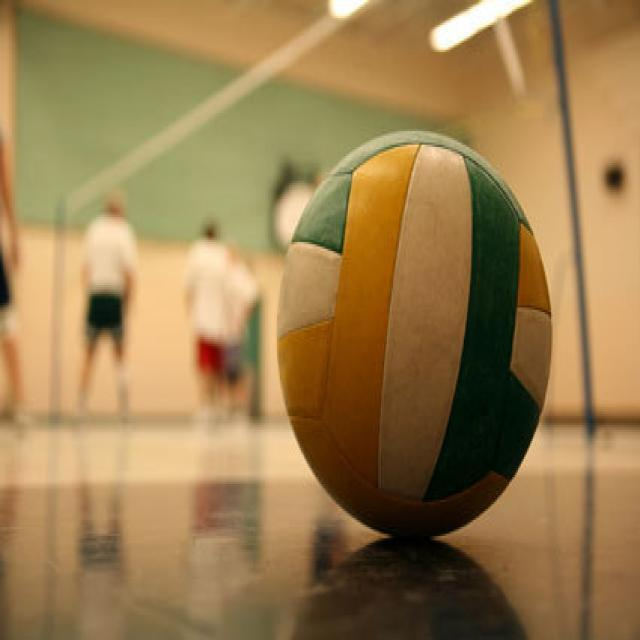volleyball: (273, 128, 554, 539)
